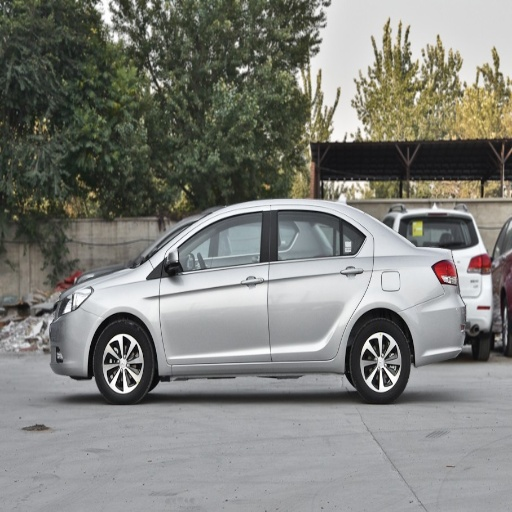back_bumper: (408, 300, 470, 362)
back_glass: (400, 216, 477, 248)
back_left_door: (272, 209, 370, 362)
front_left_door: (159, 210, 271, 363)
